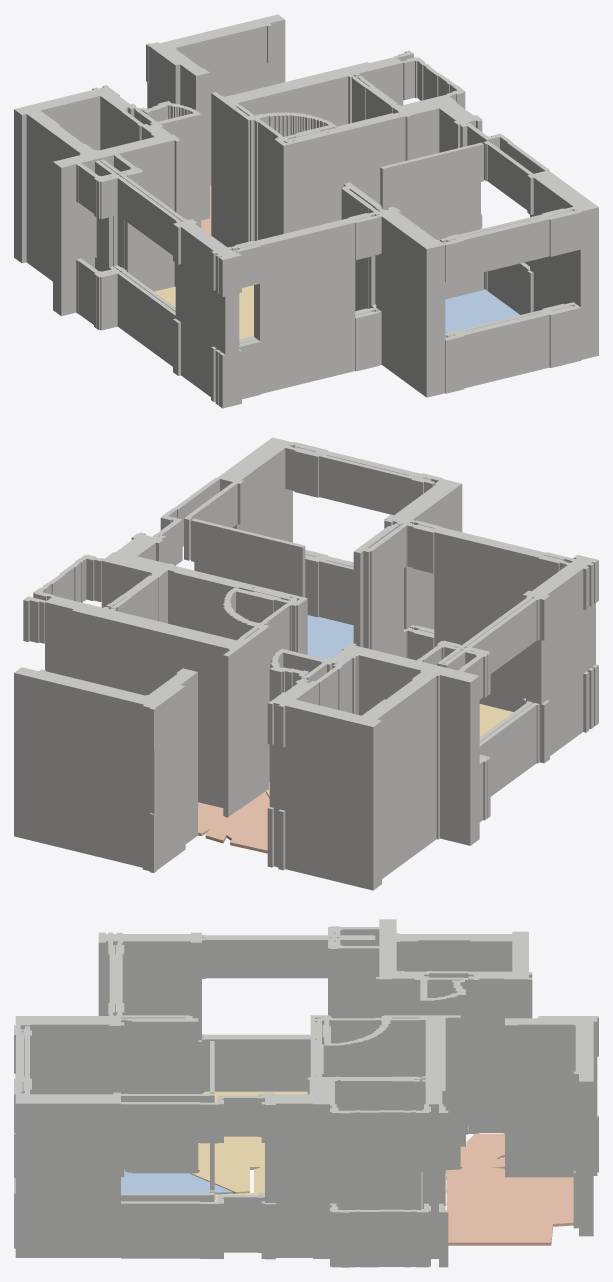
The picture shows the model from 3 angles, top to bottom: view 1: azimuth 30°, elevation 25°; view 2: azimuth 150°, elevation 25°; view 3: azimuth 270°, elevation 25°; orthographic projection. The views are drawn at different scales.
Visible parts, largest first — view 1: walls, room:bedroom:2, room:living:1; view 2: walls, room:kitchen:0, room:bedroom:2, room:living:1; view 3: walls, room:kitchen:0, room:living:1, room:bedroom:2.
Part boxes in pixels (x1,y1,x2,y2): walls: (14,14,598,408); room:bedroom:2: (445,289,519,333); room:living:1: (154,285,253,339); walls: (14,437,598,890); room:kitchen:0: (198,792,269,853); room:bedroom:2: (307,615,353,659); room:living:1: (266,704,513,798); walls: (14,919,598,1267); room:kitchen:0: (446,1133,573,1245); room:living:1: (124,1091,307,1201); room:bedroom:2: (121,1169,233,1194).
Bounding box in the file's own units: 7.54 × 2.8 × 9.61.
